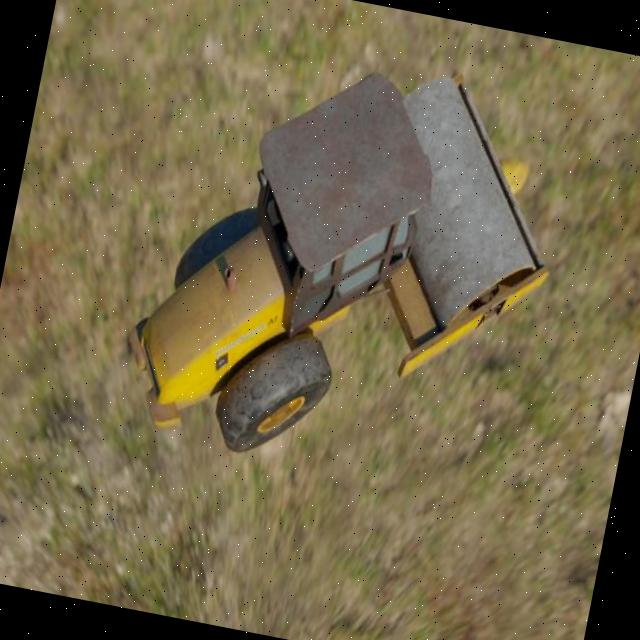Roller: (110, 19, 583, 504)
